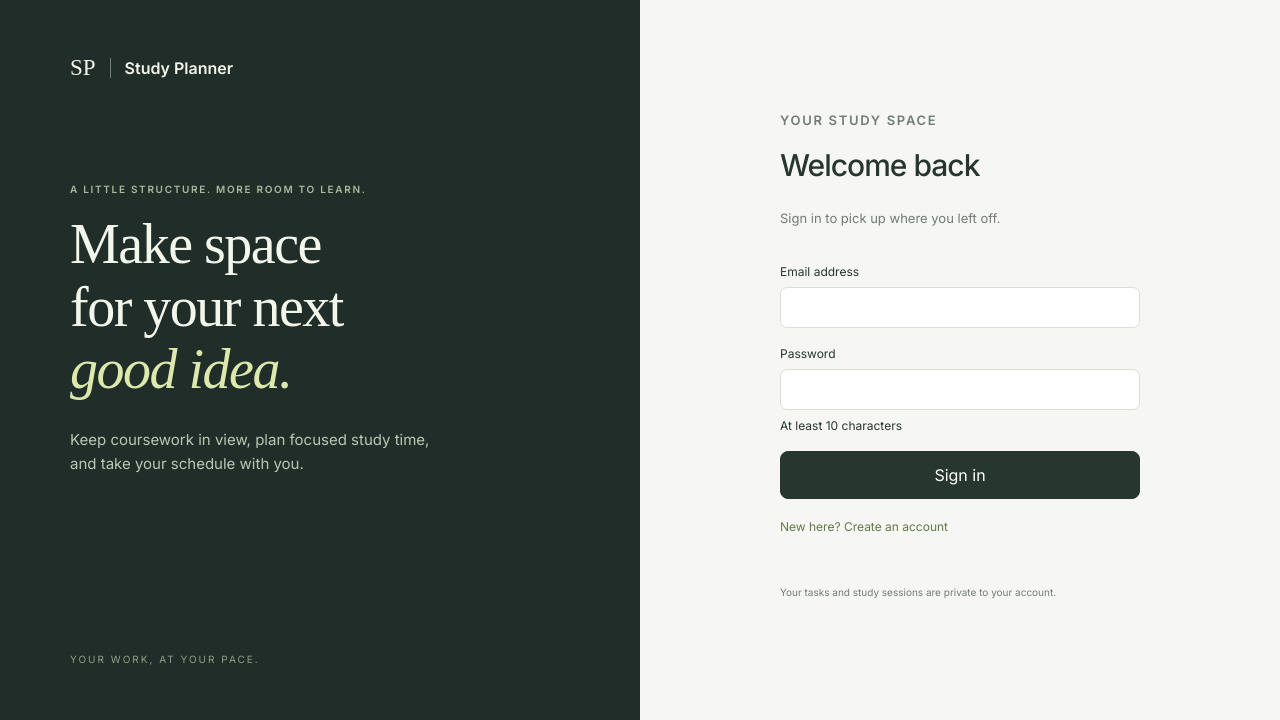
Test: client behaviour › switches from sign-in to registration and validates required name
The image size is (1280, 720).
Check: the heading "Welcome back" is shown, box x1=780 y1=147 x2=979 y2=183
Click the button "New here? Create an account". click: (864, 526)
box: x1=780 y1=499 x2=948 y2=554
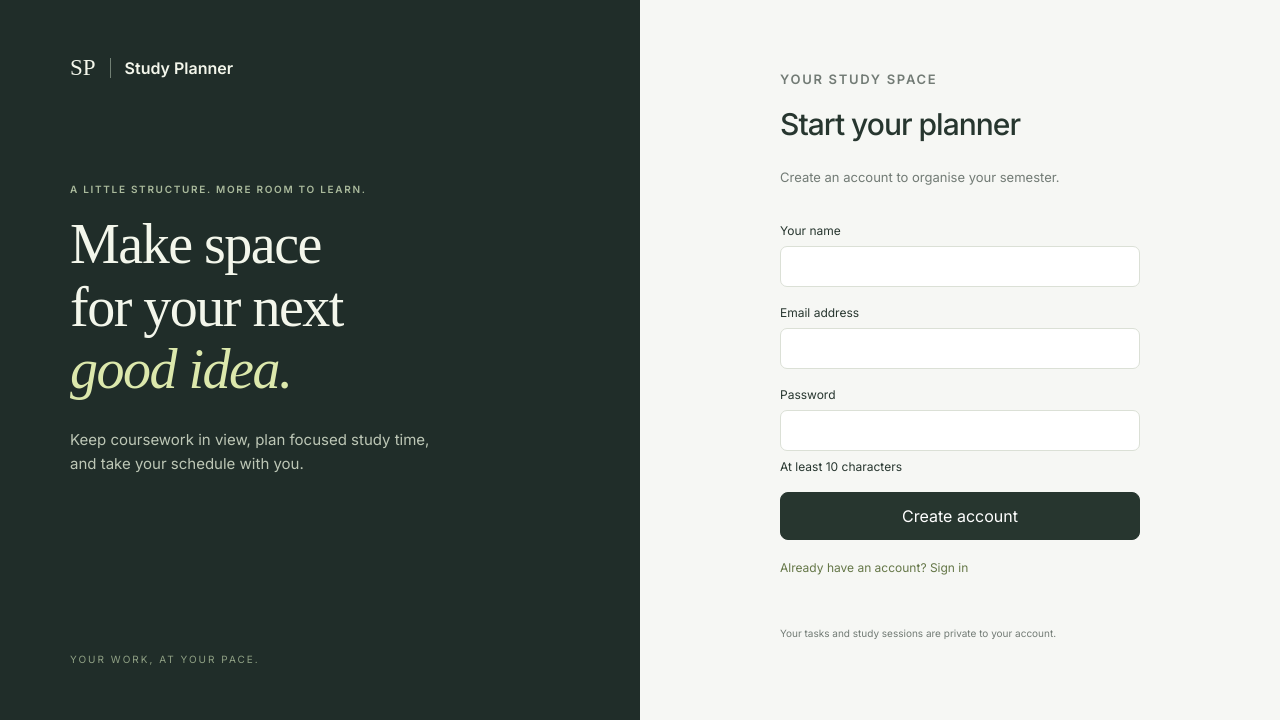
Check: the heading "Start your planner" is shown, box x1=780 y1=106 x2=1020 y2=142
